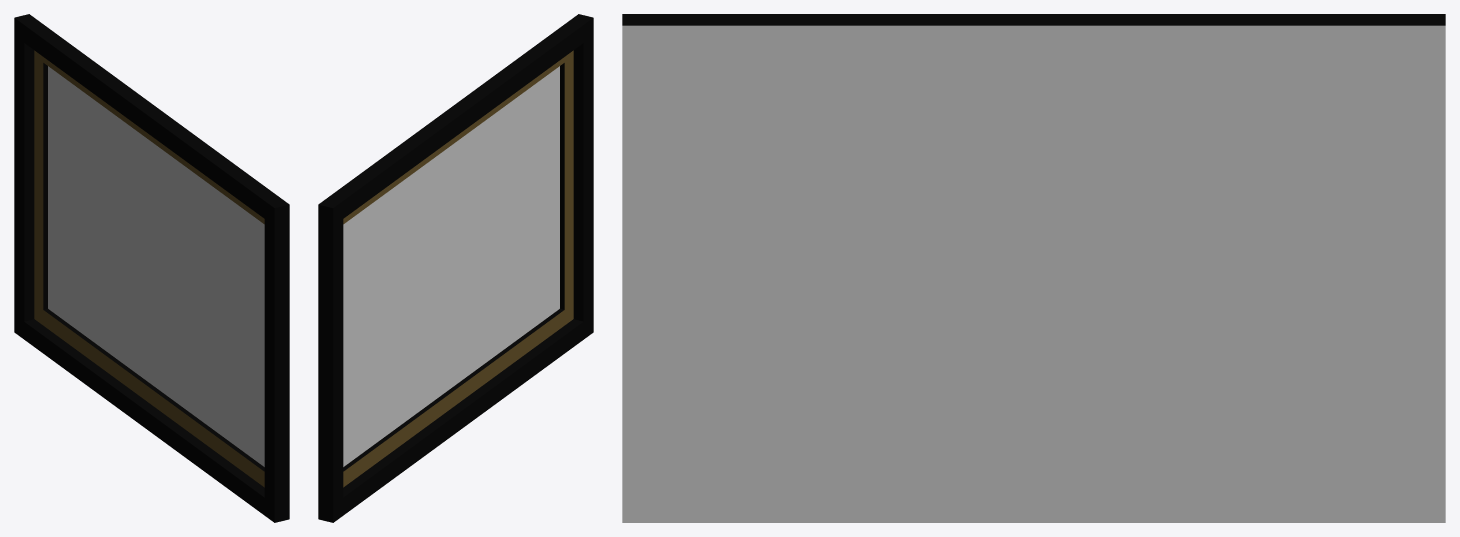
Rendered from cadre.glb.
3 views of the same model, side by side, from view 1: azimuth 30°, elevation 25°; view 2: azimuth 150°, elevation 25°; view 3: azimuth 270°, elevation 25° (orthographic). The views are drawn at different scales.
Visible parts, largest first — view 1: Cube; view 2: Cube; view 3: Cube.
Boxes of the visible parts, x1,y1,x2,y2 form: Cube: (14, 14, 289, 522); Cube: (318, 14, 593, 522); Cube: (622, 14, 1445, 522).
Size of the model in its own units: 0.1 by 2 by 3.
